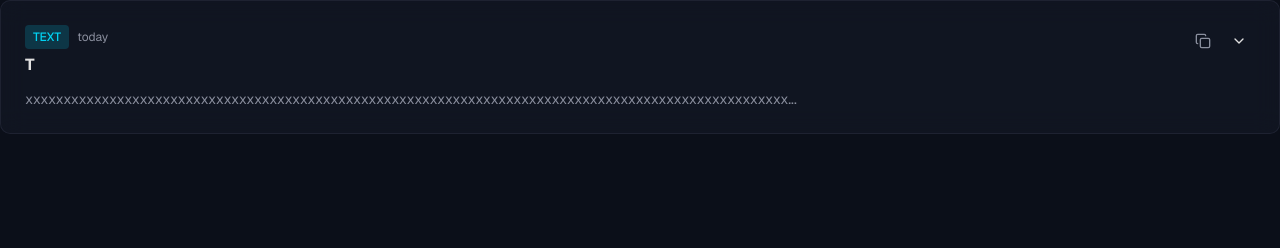
Test: VaultCard › toggles expand and shows tags
Later steps or results of the test are not shown.
Step 1. Click the button titled "Toggle details" → (1239, 41), box top-left (1223, 25), bottom-right (1255, 57)
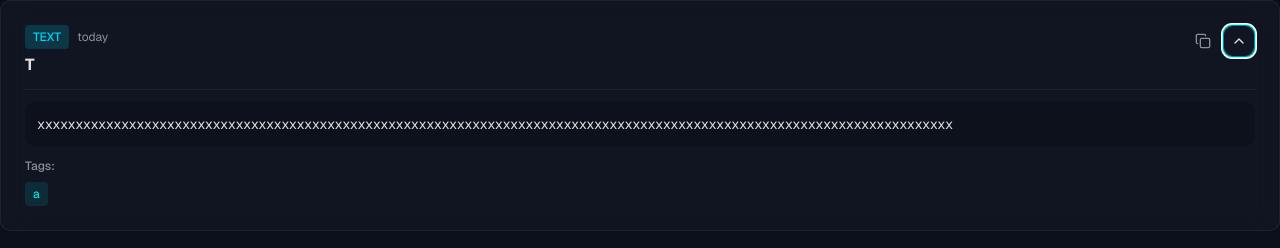
expect the text "Tags:" is shown: met, box top-left (25, 158), bottom-right (55, 174)
